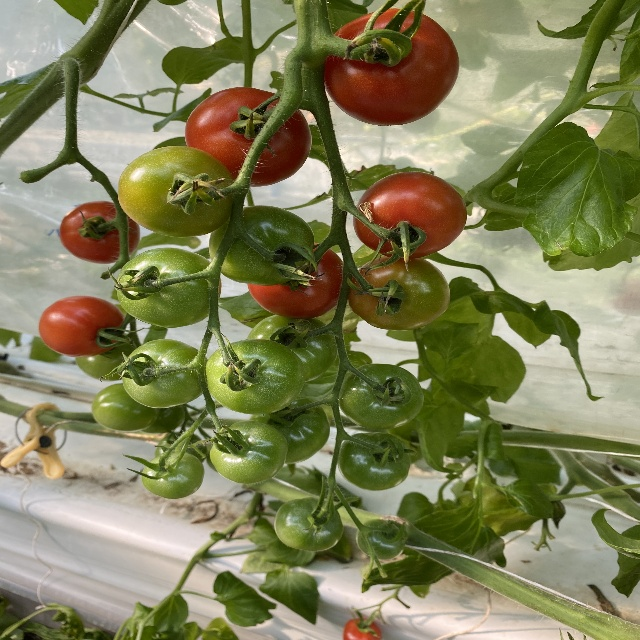l_fully_ripened: (324, 8, 460, 126), (185, 87, 312, 187), (353, 171, 467, 260), (247, 242, 349, 318), (38, 295, 126, 358), (59, 200, 141, 264)
l_green: (117, 146, 238, 239), (115, 247, 223, 329), (209, 205, 315, 285), (205, 338, 306, 415), (247, 315, 341, 382), (121, 338, 209, 408), (339, 363, 425, 430), (251, 398, 330, 464), (209, 420, 287, 484), (338, 432, 412, 491), (275, 497, 343, 552), (91, 383, 158, 432), (141, 452, 206, 500), (75, 336, 138, 380), (357, 518, 406, 560), (154, 432, 207, 463), (143, 405, 185, 433)
l_half_ripened: (348, 257, 450, 331)
